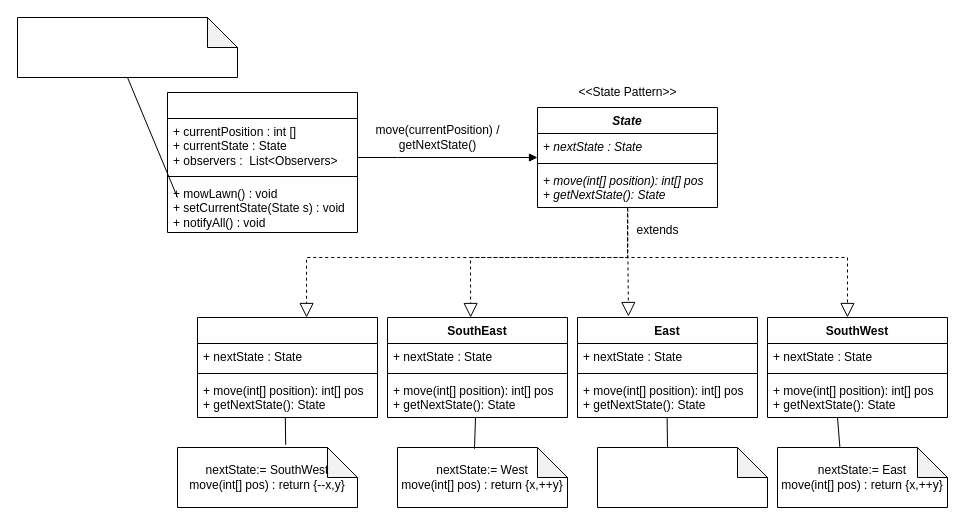
Image size: 965x525. Some labels were removed from this diagram. Each missing label, with the box of its shape:
Mower: (166, 92, 358, 232)
mowLawn(): currPosition:=currState.move(currPosition) notifyAll(): (16, 16, 238, 78)
nextState:= SouthEast move(int[] pos) : return {++x,y}: (596, 446, 768, 508)
West: (196, 316, 378, 418)
